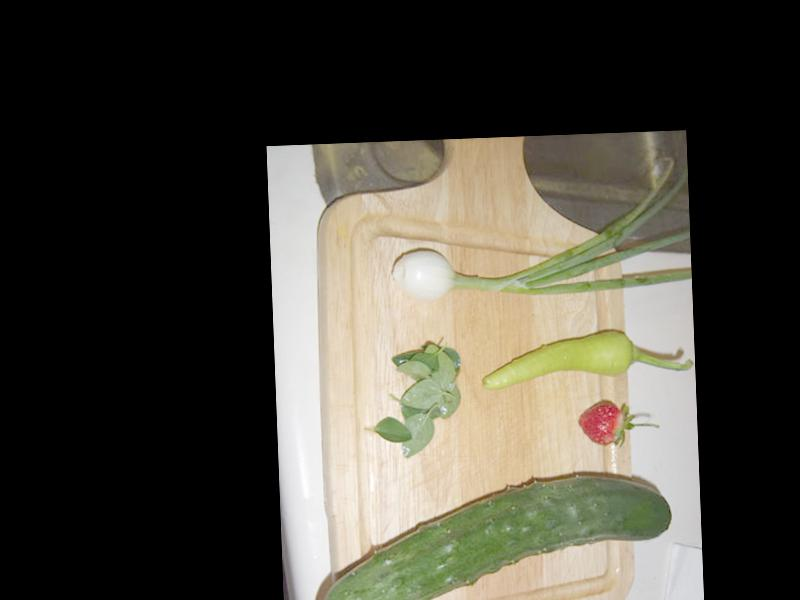Cucumber: (316, 471, 674, 600)
